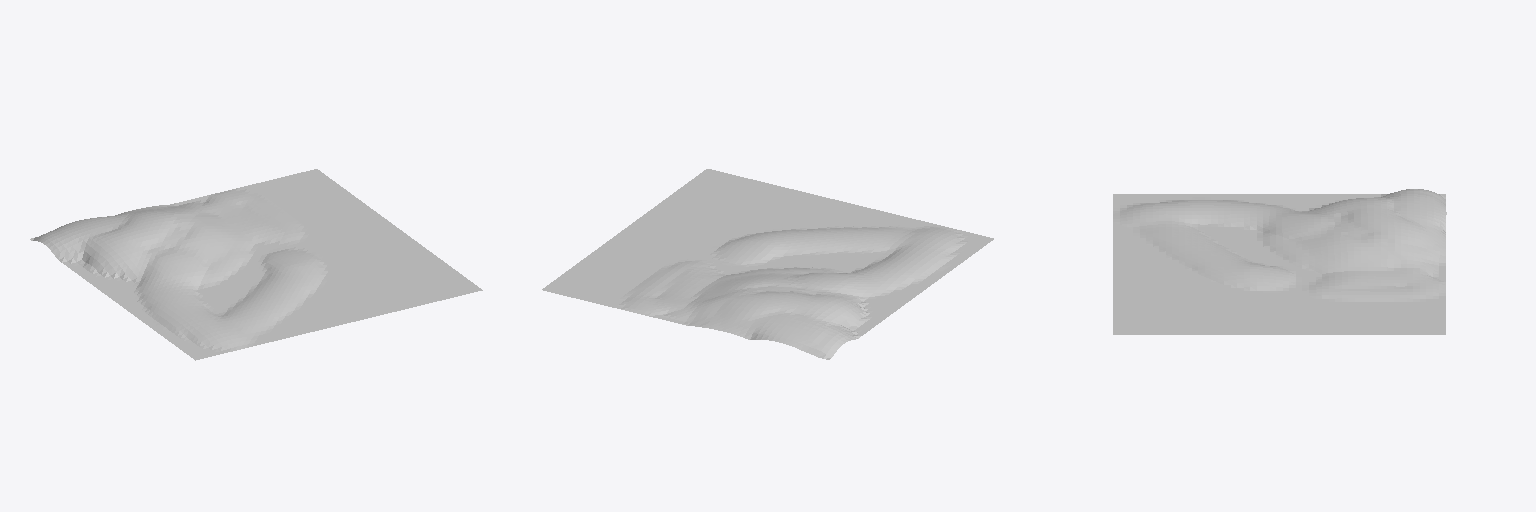
The model's file is terrain.obj.
The picture shows the model from 3 angles: view 1: azimuth 30°, elevation 25°; view 2: azimuth 150°, elevation 25°; view 3: azimuth 270°, elevation 25°; orthographic projection.
Visible parts, largest first — view 1: Plane; view 2: Plane; view 3: Plane.
Boxes of the visible parts, box(x1,y1,x2,y2) form: Plane: box(30, 169, 482, 360); Plane: box(542, 169, 993, 359); Plane: box(1113, 189, 1446, 334).
Size of the model in its own units: 12.01 by 0.6794 by 12.02.